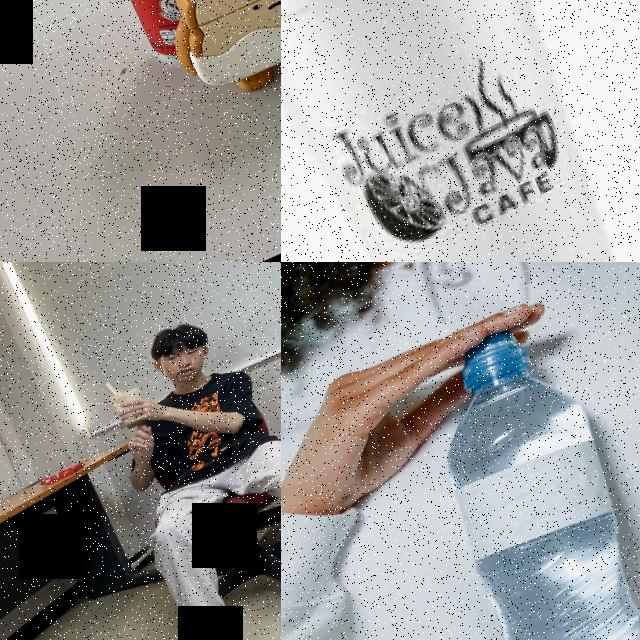bottle: (372, 321, 640, 640)
can: (43, 0, 281, 68)
cup: (281, 0, 640, 262), (107, 382, 154, 432)
